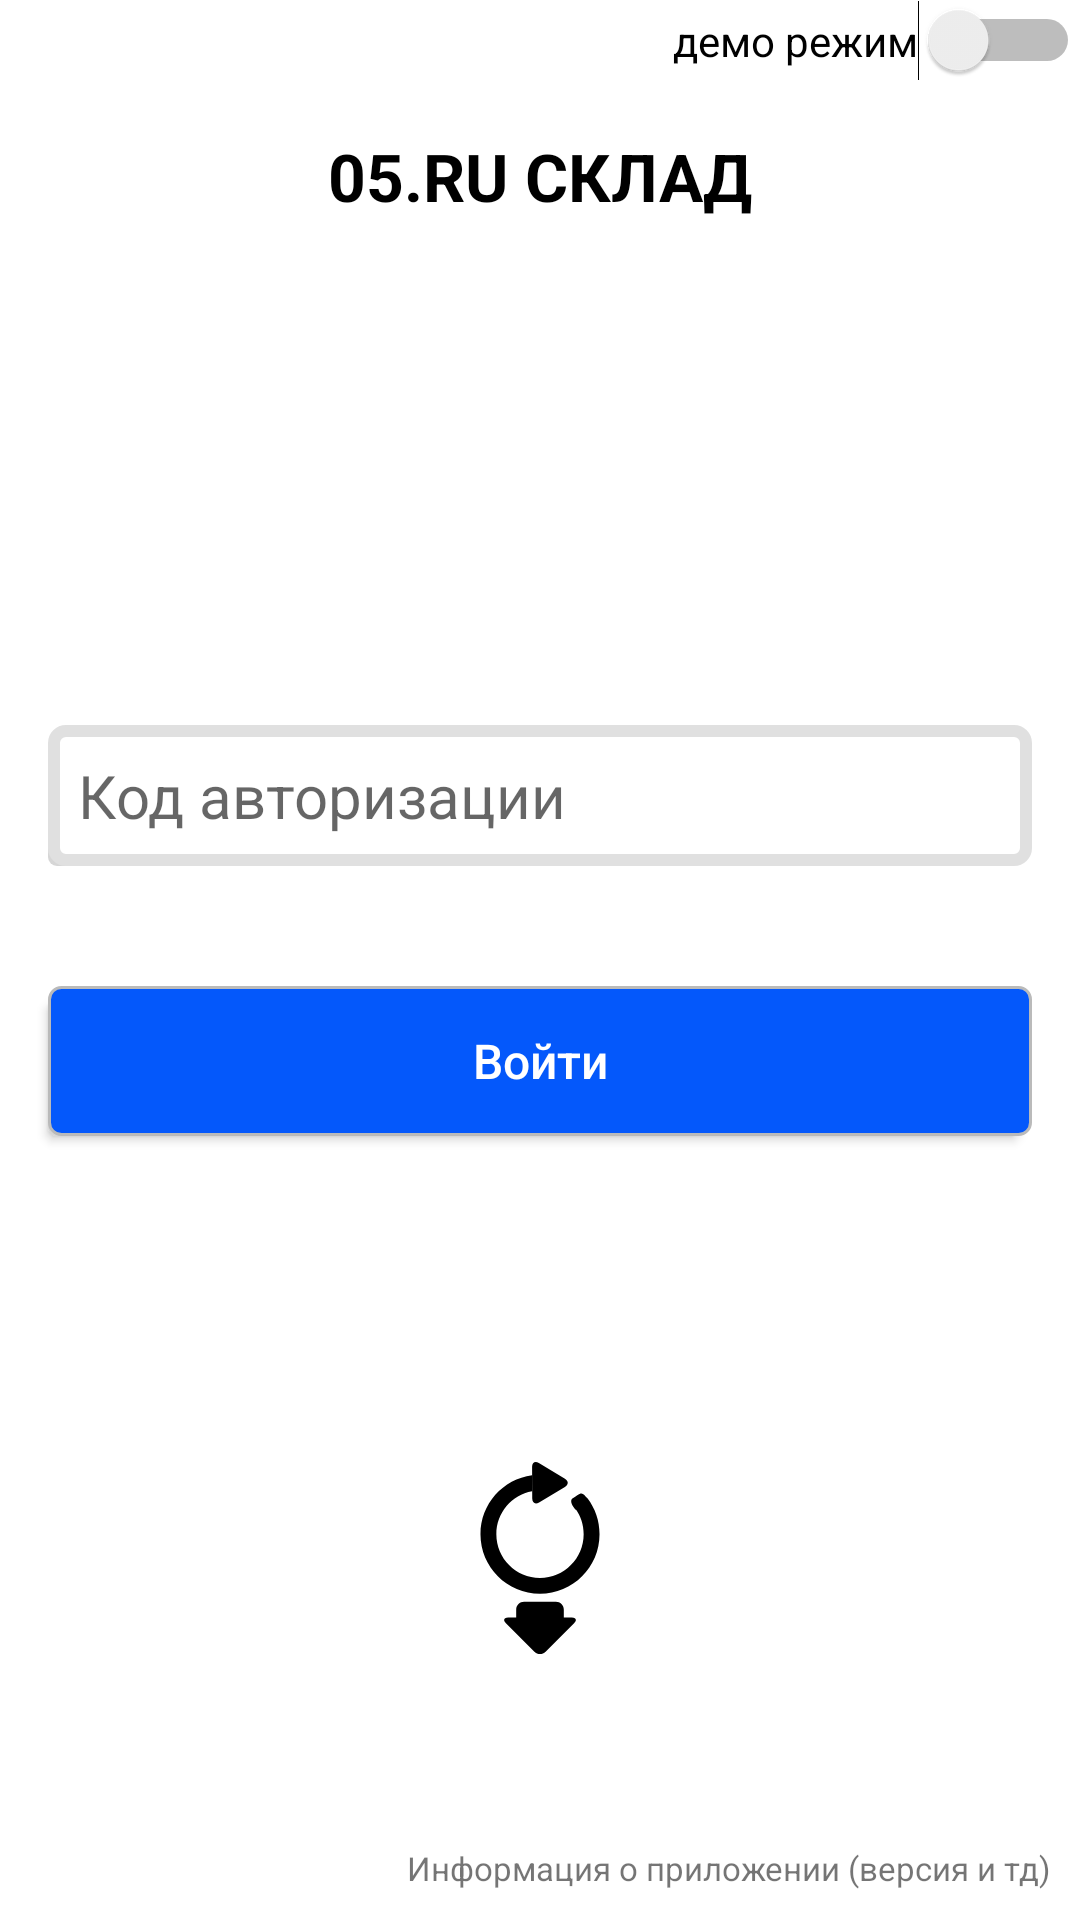

Icon bounding boxes for this 1080*1920 phone screenshot, format (x1, y1, x2, y2):
downloader: (480, 1462, 600, 1654)
